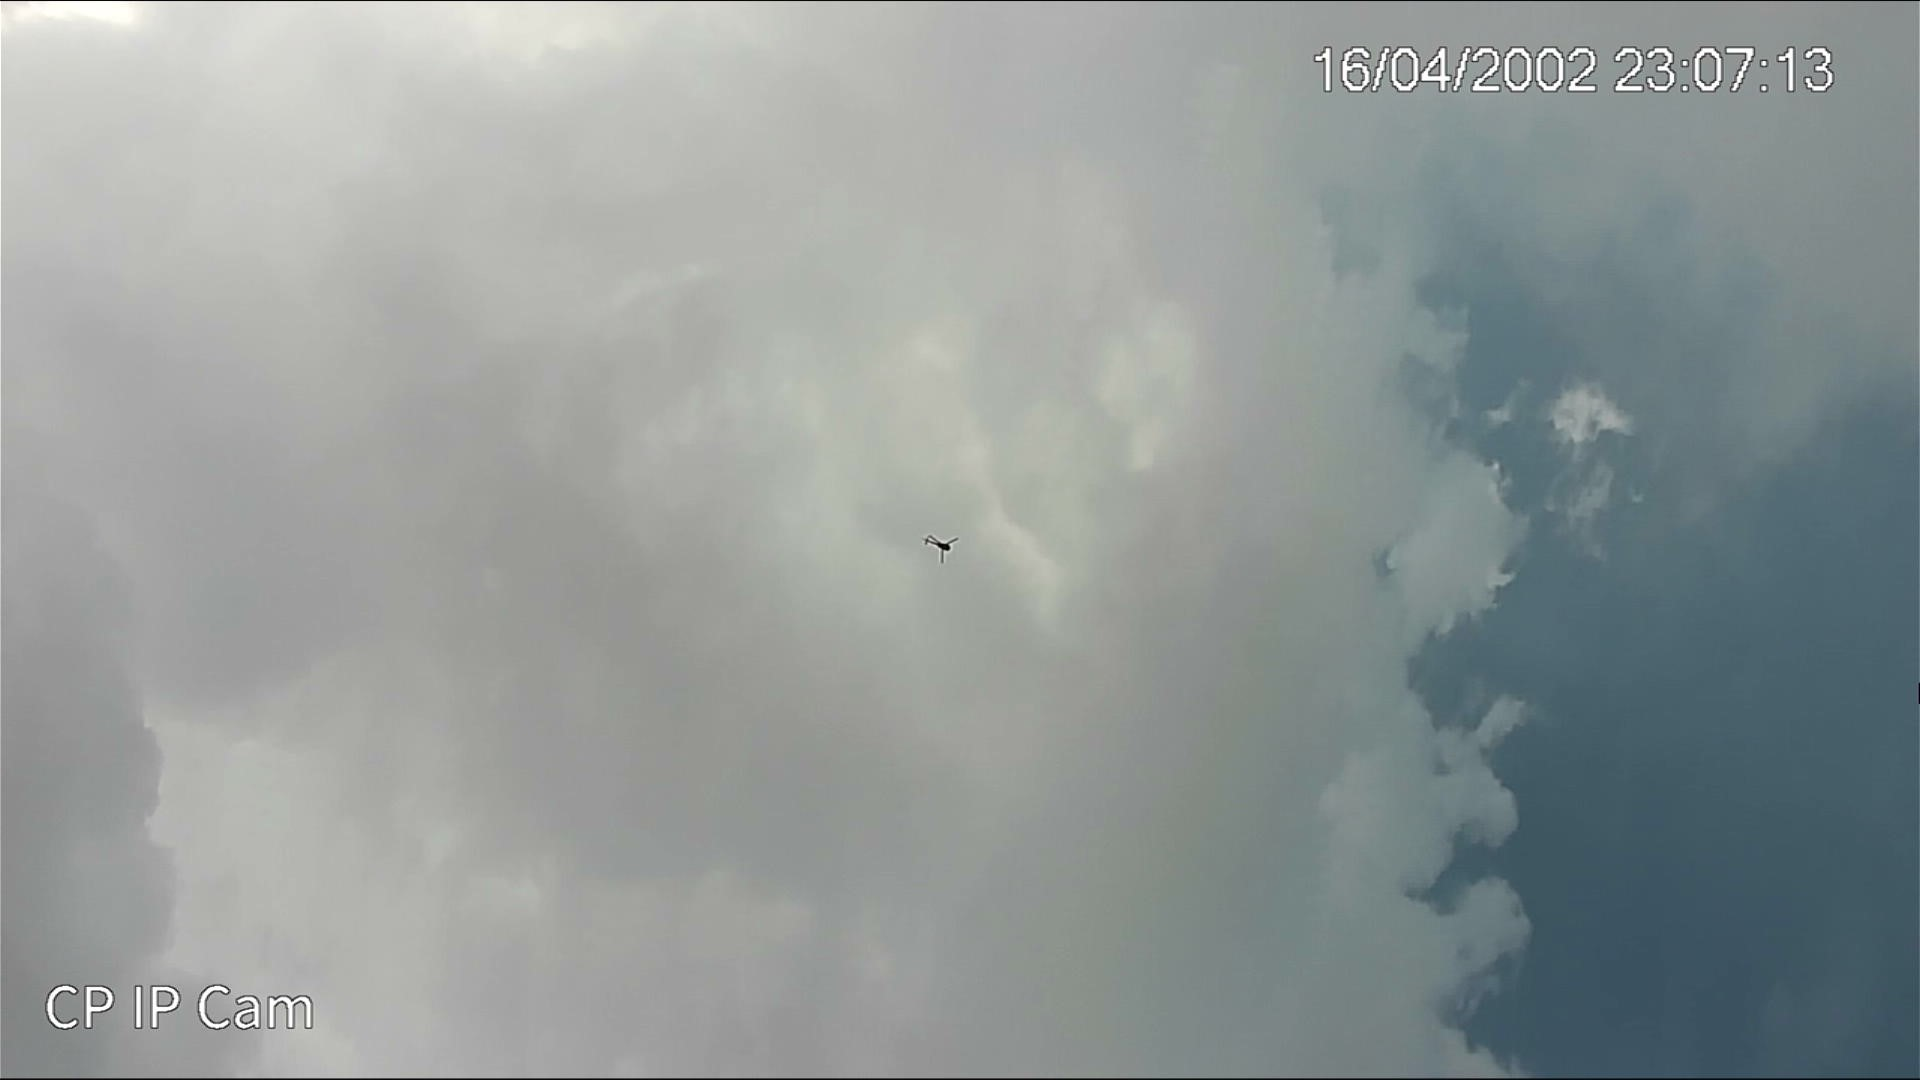SU_30: (920, 531, 957, 566)
